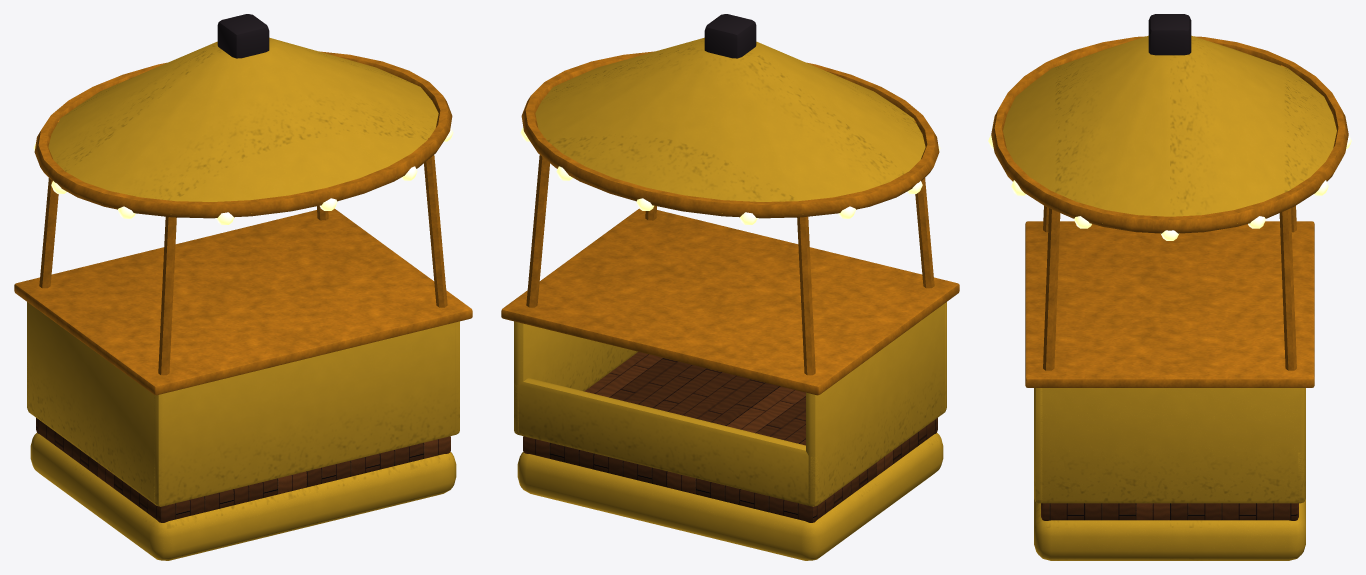
File: gondola-gold.glb
The picture shows the model from 3 angles, left to right: view 1: azimuth 30°, elevation 25°; view 2: azimuth 150°, elevation 25°; view 3: azimuth 270°, elevation 25°; orthographic projection.
Visible parts, largest first — view 1: gondola-gold; view 2: gondola-gold; view 3: gondola-gold.
Boxes of the visible parts, x1=… form: gondola-gold: x1=14, y1=14, x2=472, y2=560; gondola-gold: x1=501, y1=14, x2=959, y2=560; gondola-gold: x1=988, y1=14, x2=1351, y2=560.
Size of the model in its own units: 3.12 by 3.62 by 2.54.
Materials: 7 (4 with a texture image).
